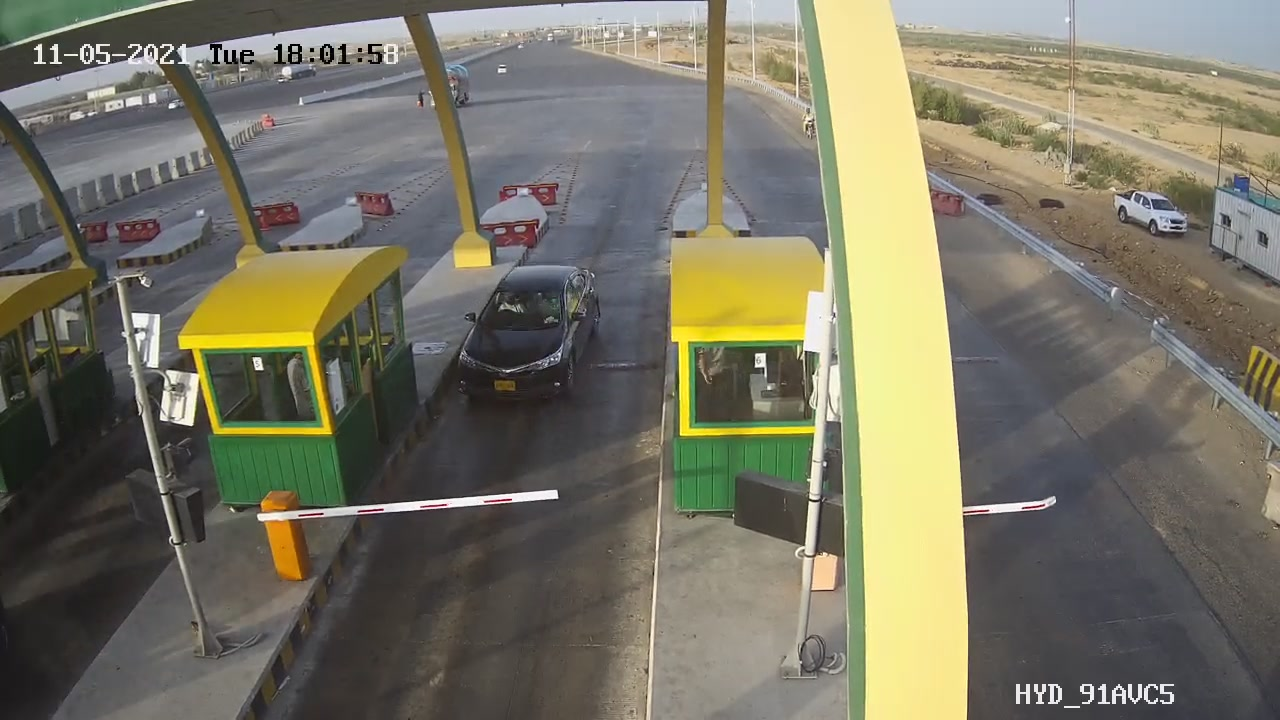F1: (444, 253, 611, 418)
